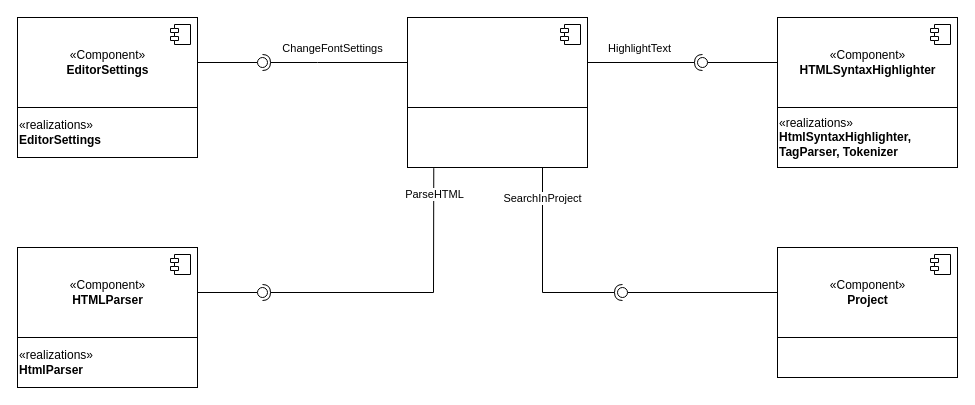
This 975x405 diagram has some shape labels left out. Here are the shapes that lost their labels. From the top down, the box of each, then its label:
(406, 16, 588, 108): «Component» Editor
(406, 106, 588, 168): «realizations» HtmlEditor, FileTreeView, EditorSearch, NumberSideBar
(776, 336, 958, 378): «realizations» Project, TextFile
